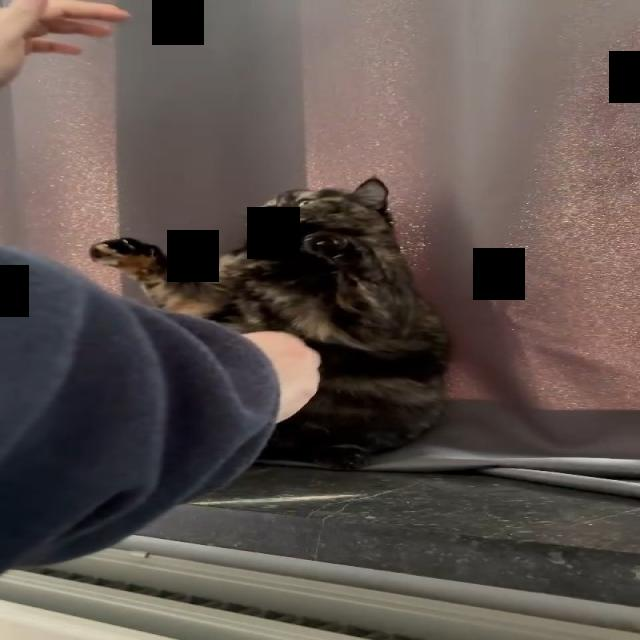authorized: (88, 175, 453, 471)
